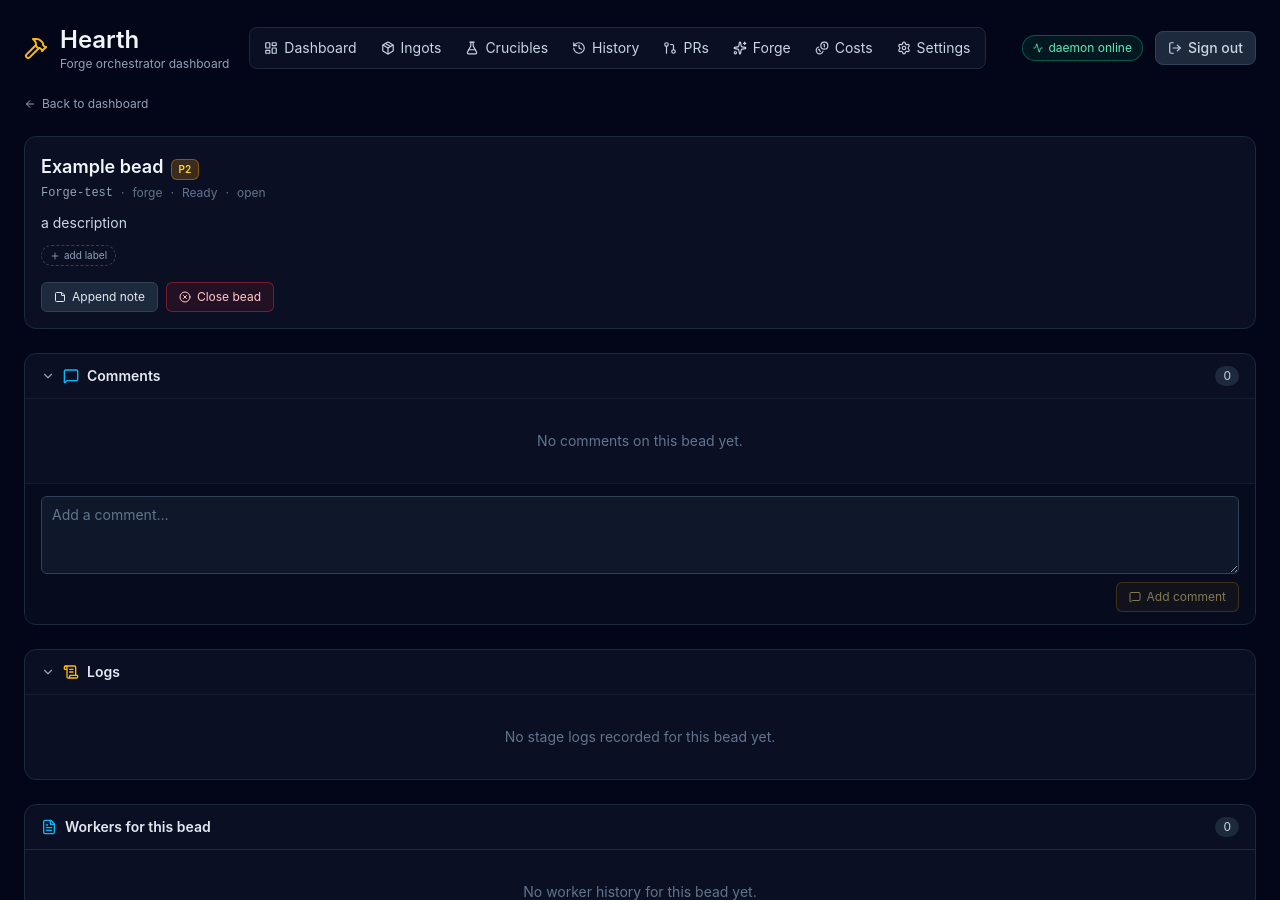
Test case: BeadDetailPage comment composer › surfaces an inline error and keeps the draft on failure
The width and height of the screenshot is (1280, 900).
Type "will fail" into the text box labelled "Add a comment" at (640, 535), box [41,496,1239,574]
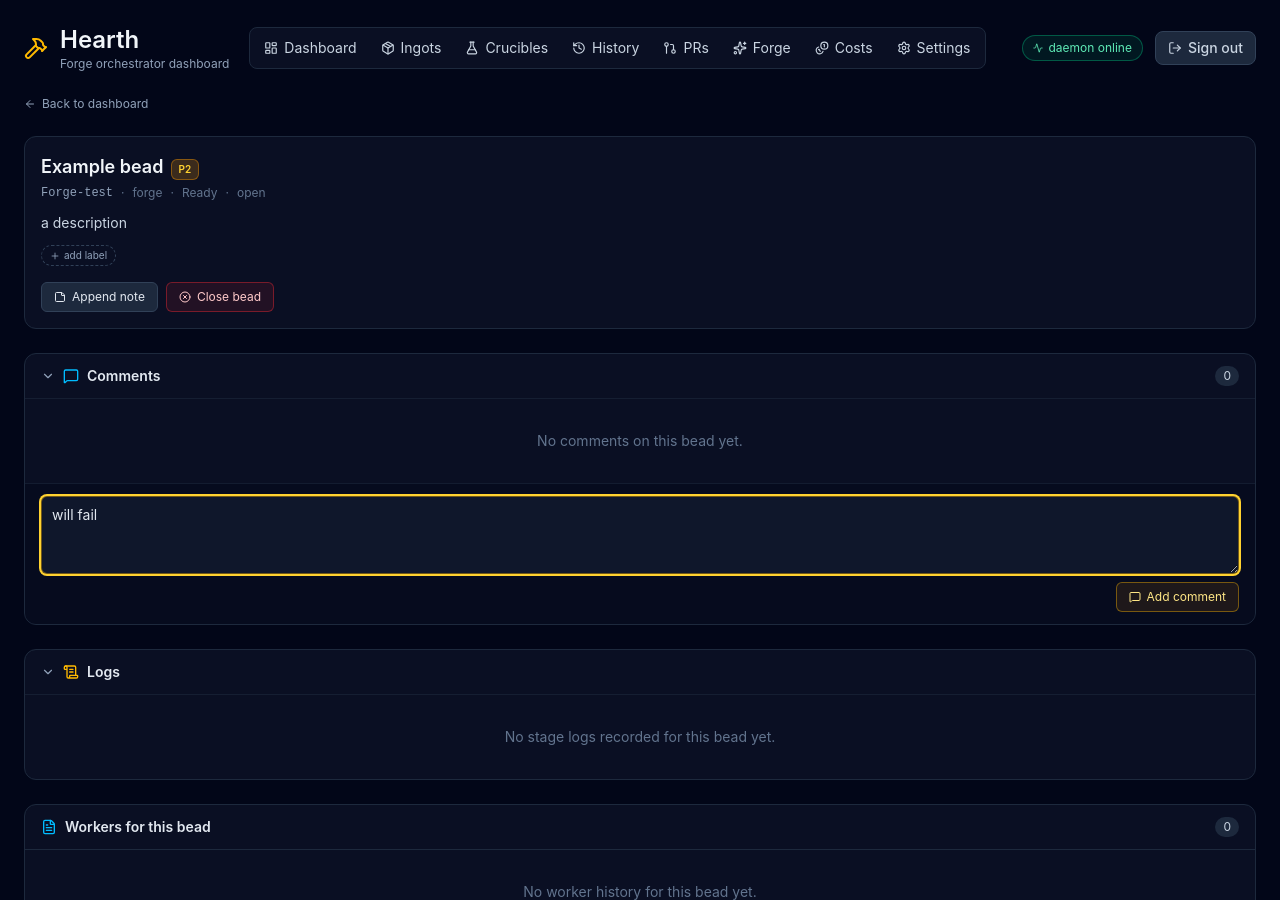
Click the button "Add comment" at (1177, 597), box [1116,582,1239,612]
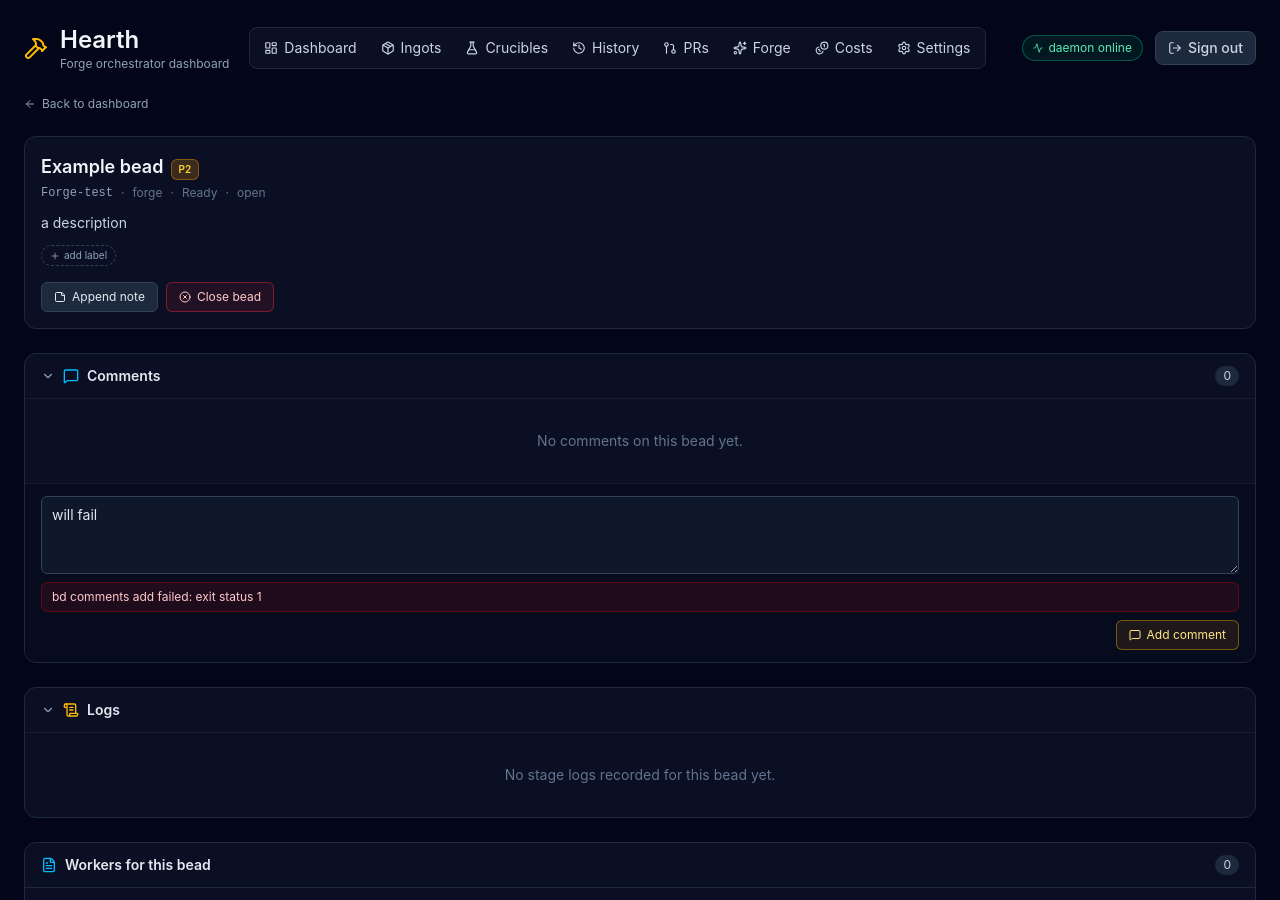
Expected: the button "Comments 0" is shown, [25,354,1255,398]
Expected: the message shows "bd comments add failed", [52,589,262,604]
